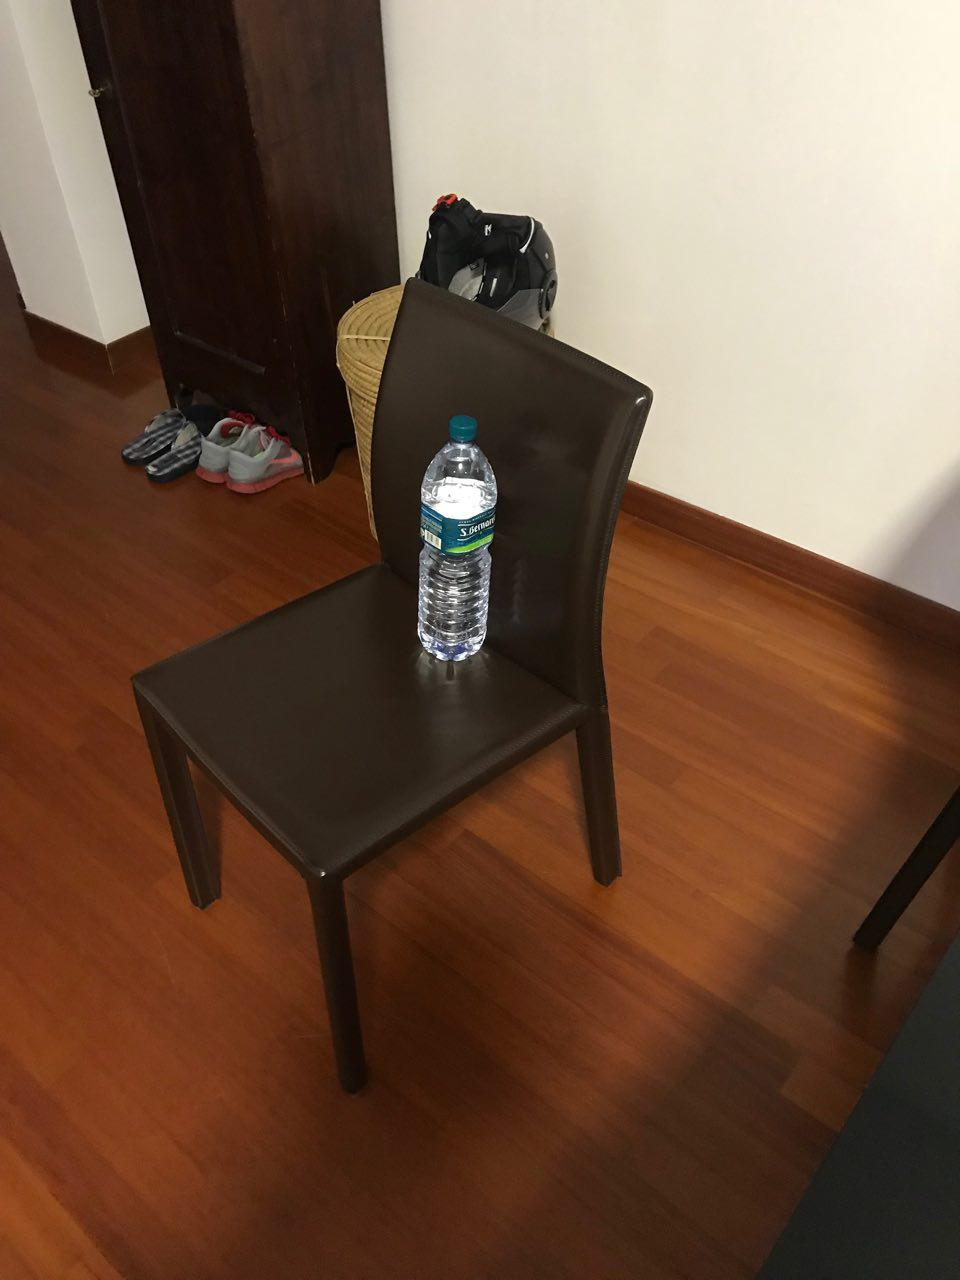san_bernardo: (416, 414, 497, 662)
